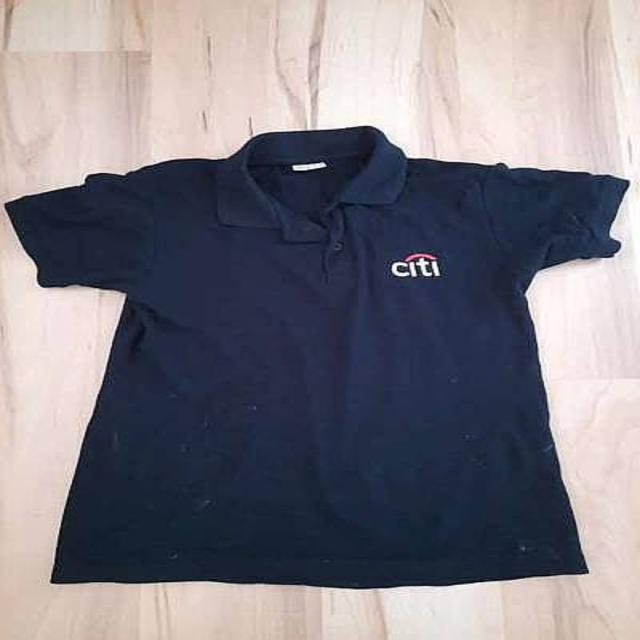T_SHIRT: (2, 115, 640, 604)
